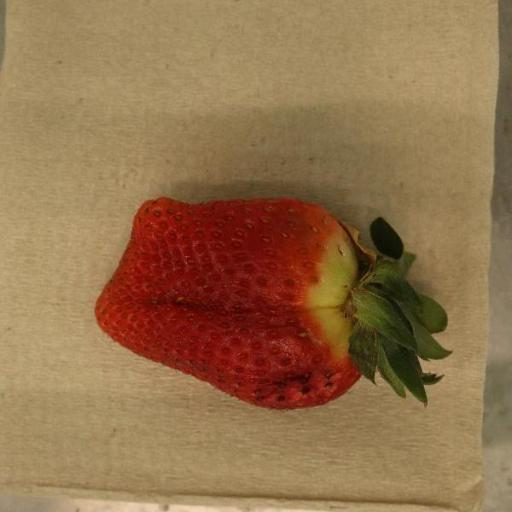Strawberry: (94, 196, 452, 410)
